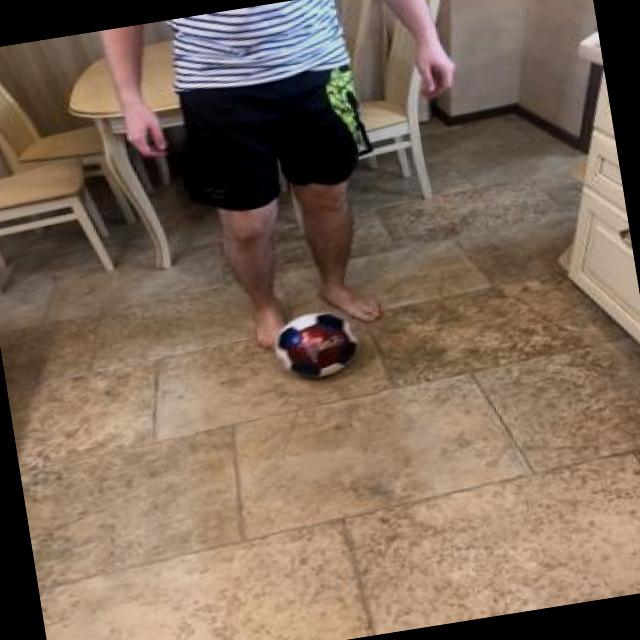Soccer Ball: (272, 304, 367, 384)
